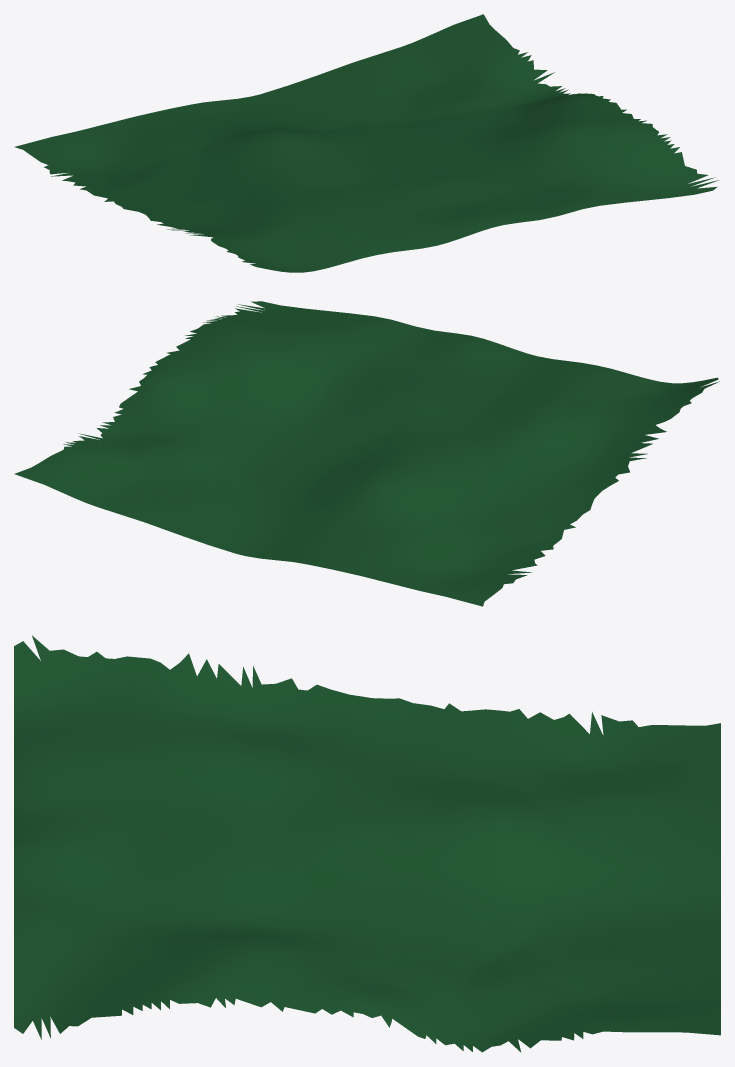
The model's file is payo_land_xm1_ym4_lod1.glb.
The picture shows the model from 3 angles, top to bottom: view 1: azimuth 30°, elevation 25°; view 2: azimuth 150°, elevation 25°; view 3: azimuth 270°, elevation 25°; orthographic projection. The views are drawn at different scales.
Parts seen in each view (by area): view 1: payo_land_xm1_ym4; view 2: payo_land_xm1_ym4; view 3: payo_land_xm1_ym4.
Boxes of the visible parts, box(x1,y1,x2,y2) form: payo_land_xm1_ym4: box(14, 14, 719, 272); payo_land_xm1_ym4: box(14, 301, 719, 606); payo_land_xm1_ym4: box(14, 635, 720, 1052).
Size of the model in its own units: 271 by 34.29 by 231.
